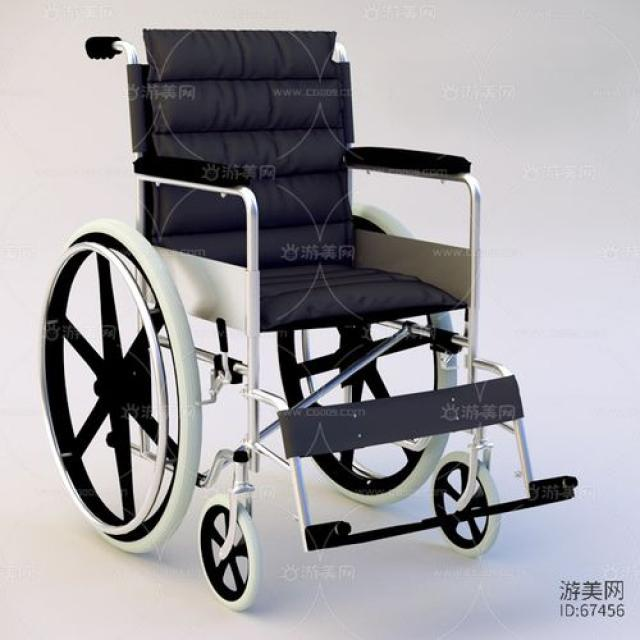wheelchairs: (29, 6, 588, 622)
